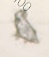microplastic: (13, 9, 41, 46)
